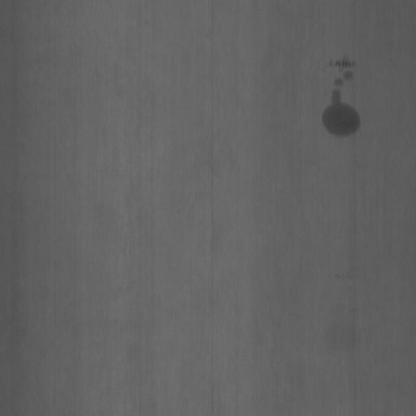oil_spot: (316, 58, 376, 154)
